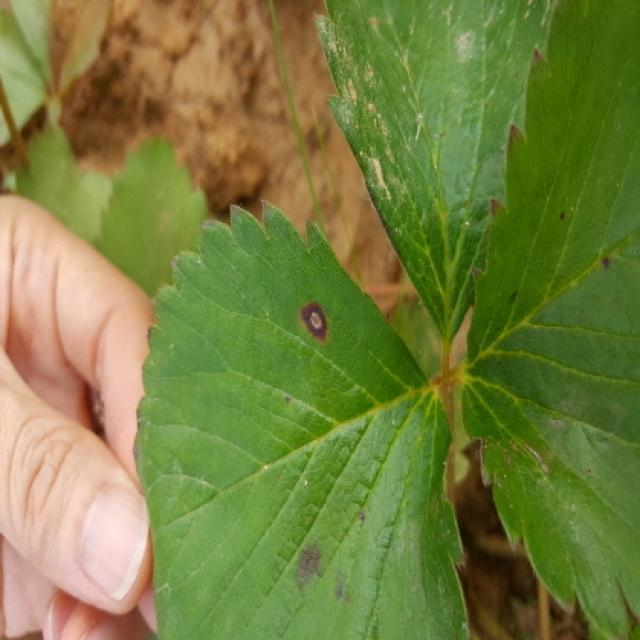Leaf Spot: (133, 198, 471, 638), (462, 0, 638, 638)
